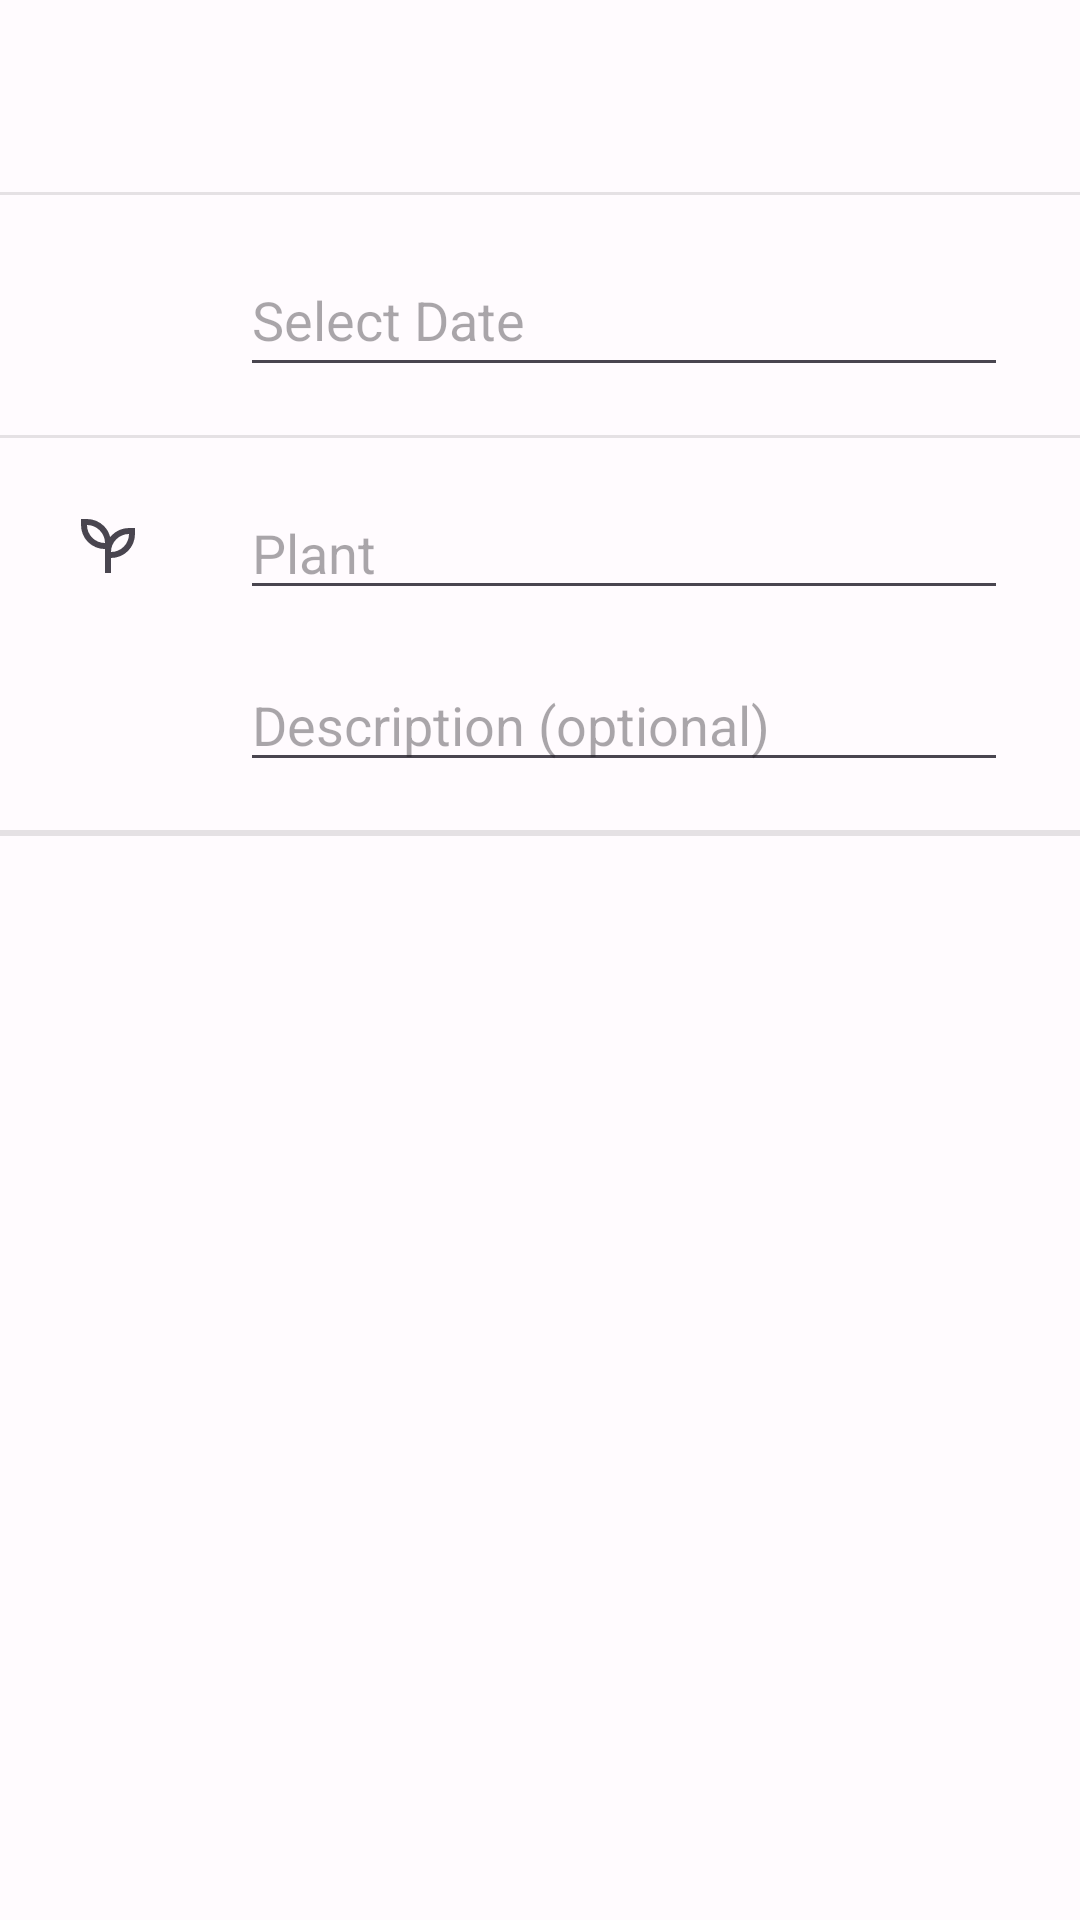

Where to tap for icons on this 1080w x 1920h app screen, as (x=x, y=y):
psychiatry: (x=108, y=546)
